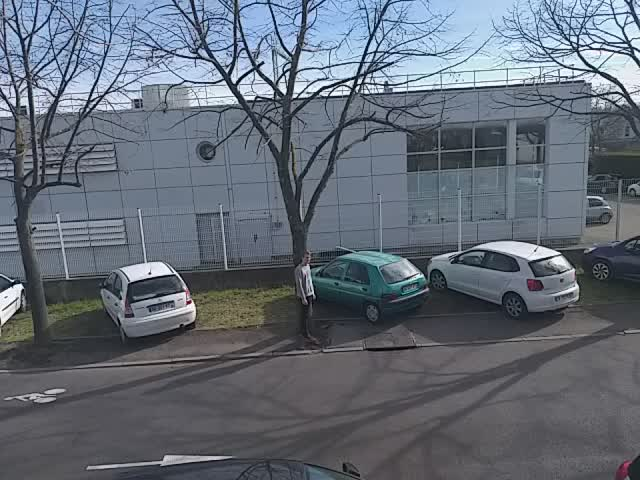persona: (288, 245, 328, 355)
